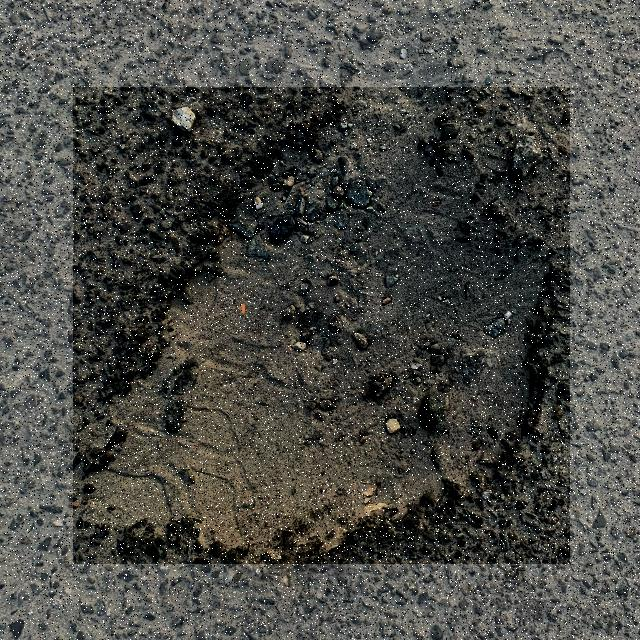damaged: (73, 87, 570, 564)
